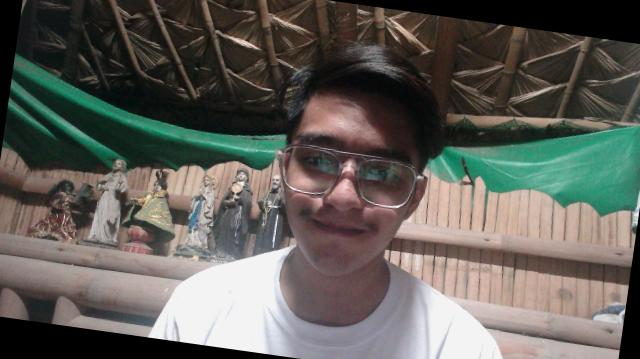senang: (264, 74, 443, 293)
